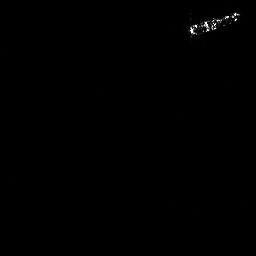ship: (183, 8, 242, 39)
